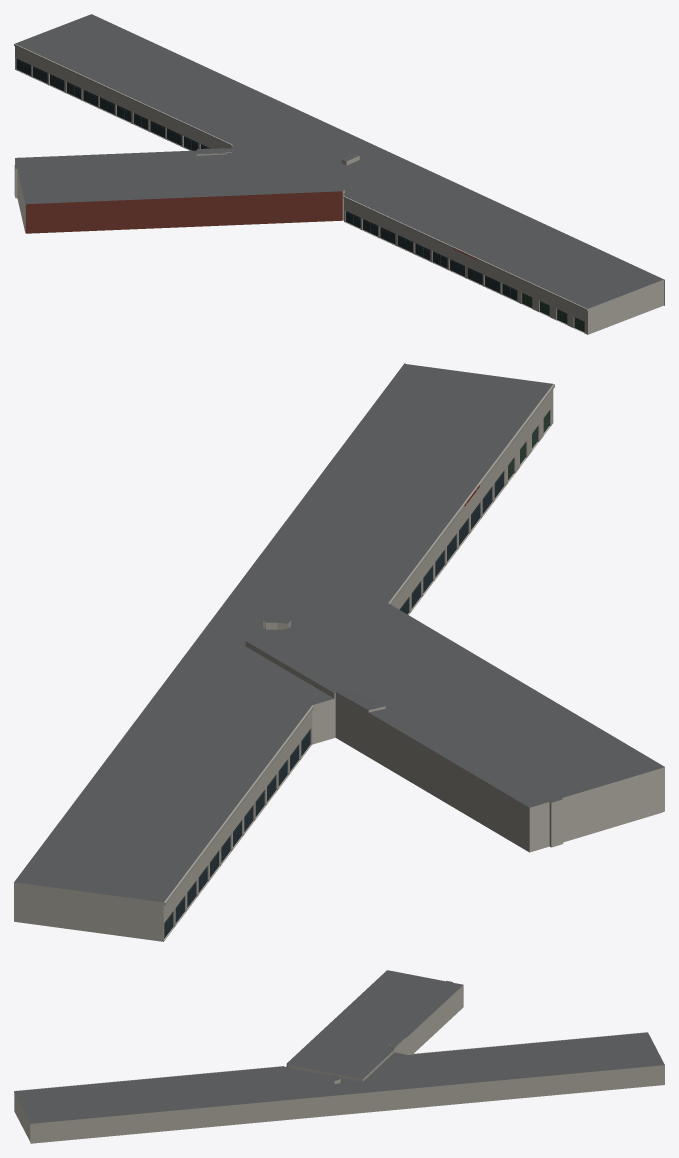
Rendered from recipe-large-cgm-114-202381.glb.
3 renders of one model, top to bottom at view 1: azimuth 30°, elevation 25°; view 2: azimuth 150°, elevation 25°; view 3: azimuth 270°, elevation 25°, orthographic. The views are drawn at different scales.
Visible parts, largest first — view 1: cgm-114-202381; view 2: cgm-114-202381; view 3: cgm-114-202381.
Boxes of the visible parts, x1,y1,x2,y2 form: cgm-114-202381: [14, 14, 664, 334]; cgm-114-202381: [14, 363, 664, 941]; cgm-114-202381: [14, 970, 664, 1143].
Bounding box in the file's own units: 105 × 7.75 × 192.
